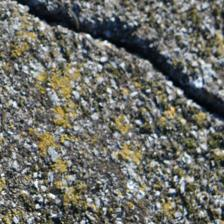Crack: (13, 2, 208, 117)
